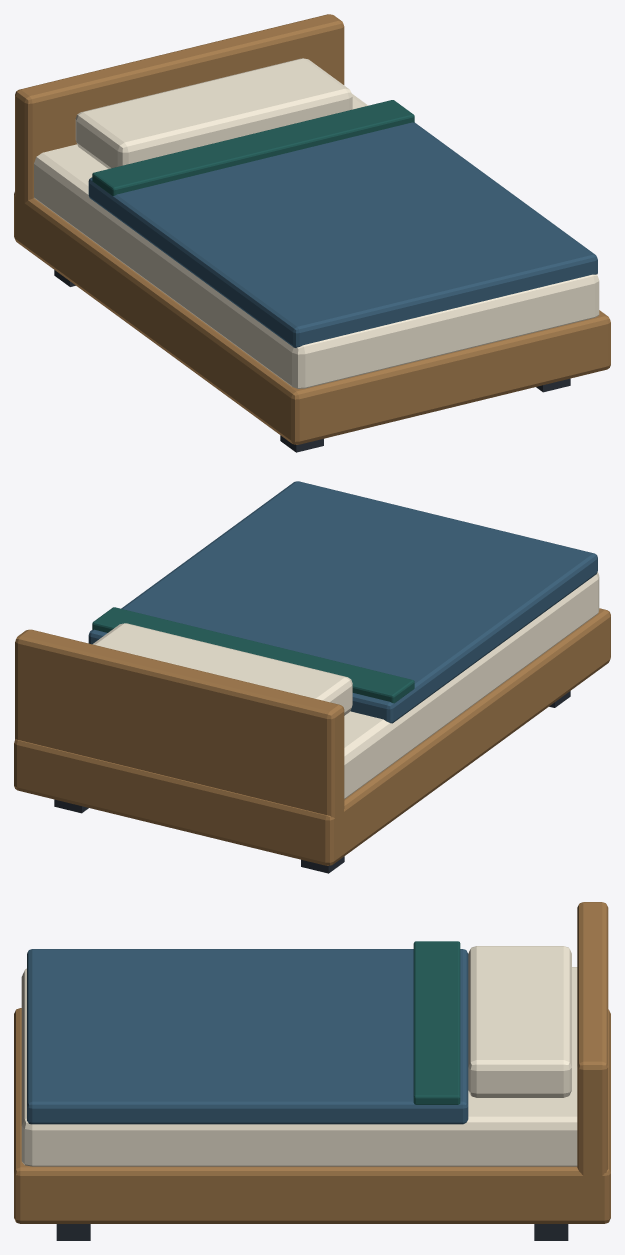
File: bed.glb
3 renders of one model, top to bottom at view 1: azimuth 30°, elevation 25°; view 2: azimuth 150°, elevation 25°; view 3: azimuth 270°, elevation 25°, orthographic. The views are drawn at different scales.
Visible parts, largest first — view 1: interior-apt-blue--1, interior-apt-wood--1, interior-apt-white--1, interior-apt-teal--1, interior-apt-navy--1; view 2: interior-apt-wood--1, interior-apt-blue--1, interior-apt-white--1, interior-apt-teal--1, interior-apt-navy--1; view 3: interior-apt-blue--1, interior-apt-wood--1, interior-apt-white--1, interior-apt-teal--1, interior-apt-navy--1.
Part boxes in pixels (box(x1,y1,x2,y2)): interior-apt-blue--1: box(88, 122, 597, 347); interior-apt-wood--1: box(14, 14, 610, 444); interior-apt-white--1: box(34, 58, 599, 388); interior-apt-teal--1: box(92, 100, 414, 195); interior-apt-navy--1: box(54, 270, 570, 452); interior-apt-wood--1: box(14, 608, 610, 865); interior-apt-blue--1: box(88, 481, 597, 723); interior-apt-white--1: box(92, 572, 599, 798); interior-apt-teal--1: box(92, 607, 414, 703); interior-apt-navy--1: box(54, 691, 570, 873); interior-apt-blue--1: box(27, 949, 468, 1124); interior-apt-wood--1: box(14, 902, 610, 1223); interior-apt-white--1: box(21, 946, 577, 1166); interior-apt-teal--1: box(413, 941, 460, 1104); interior-apt-navy--1: box(56, 1224, 568, 1240).
Bounding box in the file's own units: 1.5 × 0.8 × 2.3.
